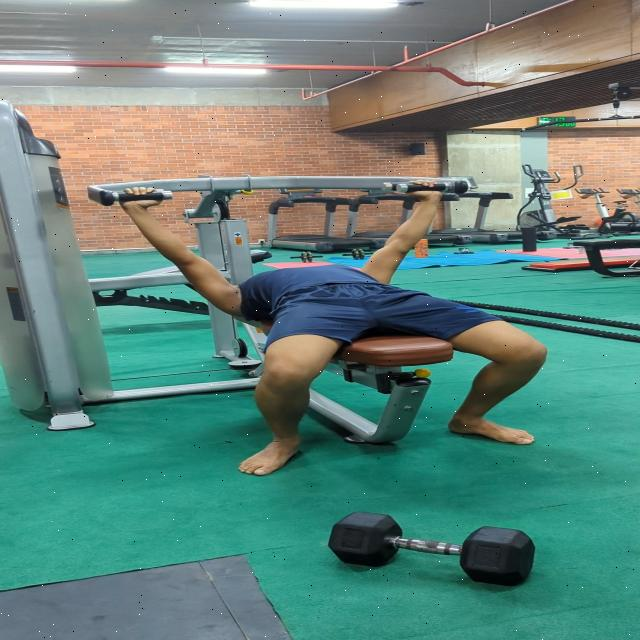Normal_BrenchPress: (89, 167, 640, 471)
